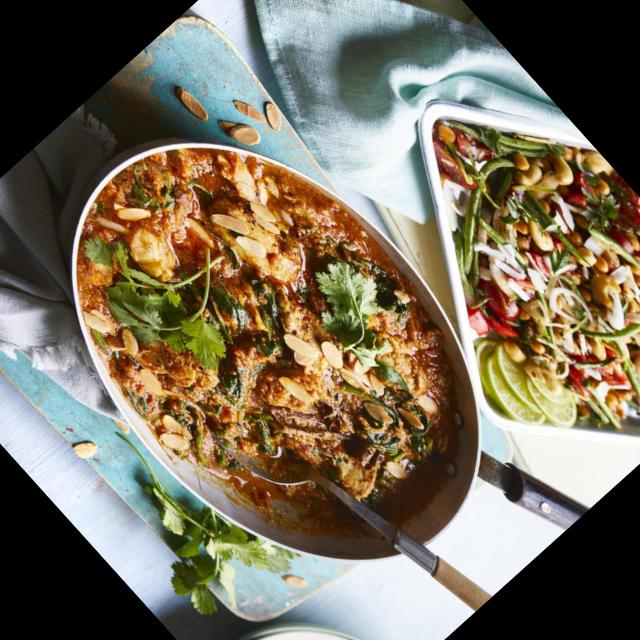chicken: (31, 97, 486, 563)
